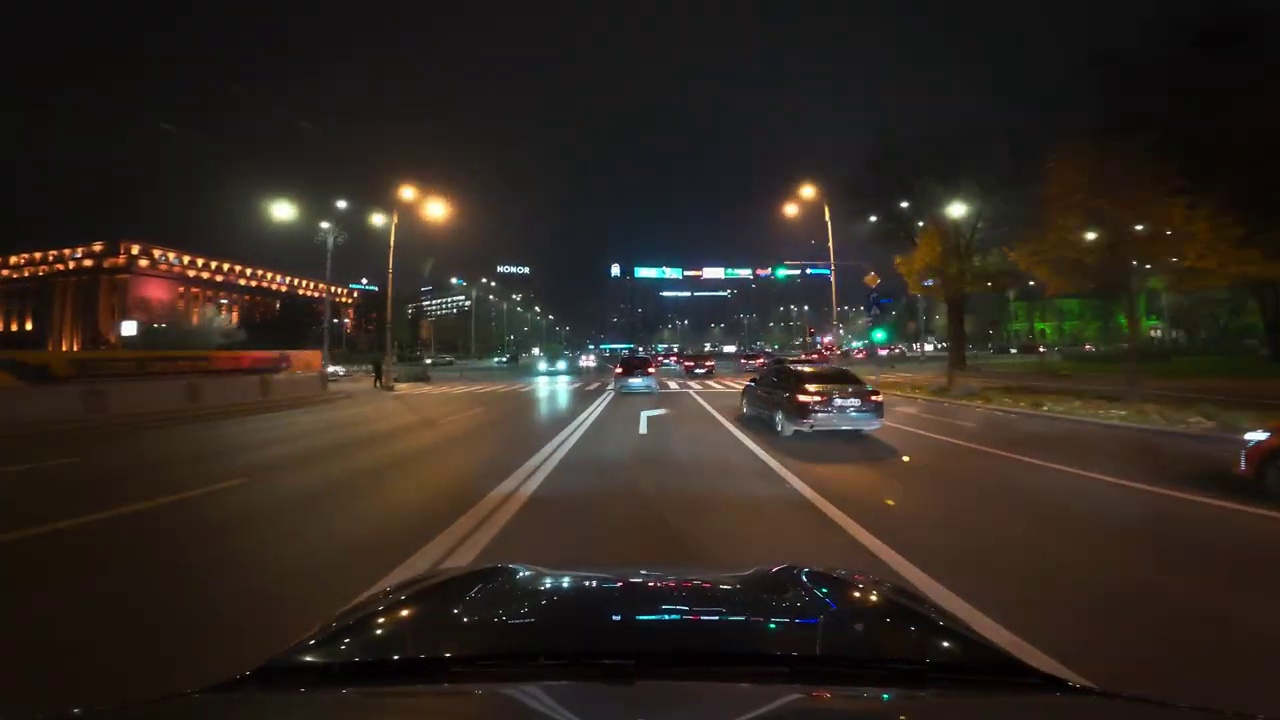acesa: (399, 183, 453, 223), (410, 191, 452, 226), (786, 180, 821, 213), (266, 197, 301, 225), (943, 197, 971, 222)
